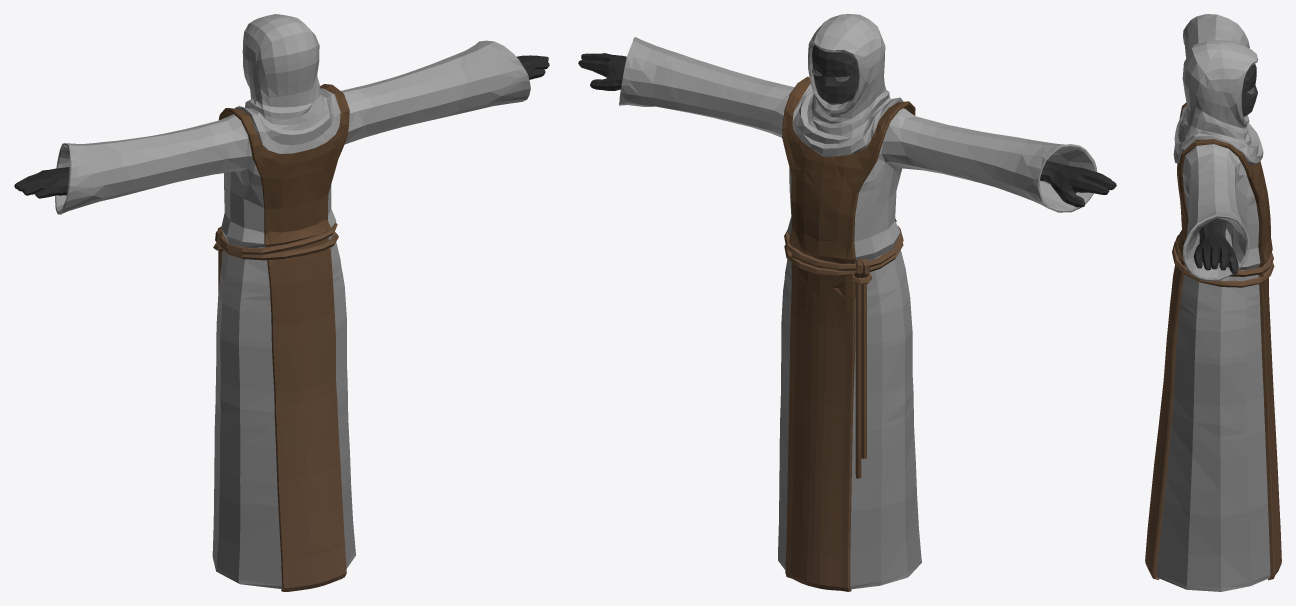
Rendered from NPC_AP31Priest.glb.
3 renders of one model, left to right at view 1: azimuth 30°, elevation 25°; view 2: azimuth 150°, elevation 25°; view 3: azimuth 270°, elevation 25°, orthographic. The views are drawn at different scales.
Parts seen in each view (by area): view 1: NPC_AP31Priest; view 2: NPC_AP31Priest; view 3: NPC_AP31Priest.
Boxes of the visible parts, x1=… form: NPC_AP31Priest: x1=14, y1=14, x2=549, y2=591; NPC_AP31Priest: x1=578, y1=14, x2=1116, y2=591; NPC_AP31Priest: x1=1145, y1=14, x2=1281, y2=591.
Size of the model in its own units: 14.03 by 13.72 by 3.26.
Materials: 1 (1 with a texture image).
